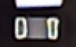COMP: (8, 13, 65, 43)
GAP: (15, 1, 59, 24)
